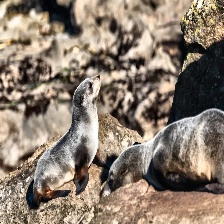seal: (28, 76, 102, 208)
